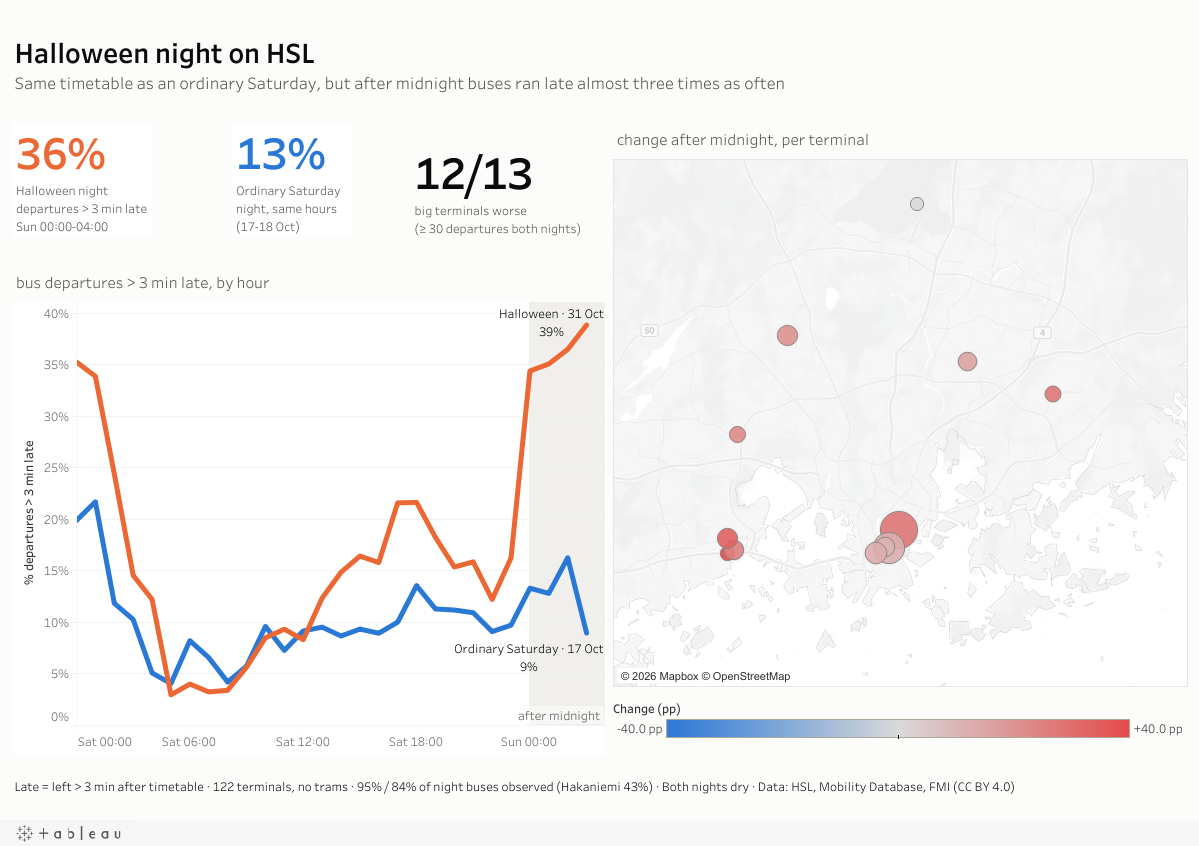

The page's visual inventory and layout, read from the dashboard file:
{"tool":"tableau","page":{"name":"Dashboard 1","canvas":[1200,820],"ordinal":0},"visuals":[{"type":"text","box":[8,8,592,120]},{"type":"worksheet","title":"BAN departures","mark":"Automatic","box":[600,8,185,120]},{"type":"worksheet","title":"BAN routes","mark":"Automatic","box":[785,8,143,120]},{"type":"worksheet","title":"BAN holiday","mark":"Automatic","box":[928,8,143,120]},{"type":"parameter","param":"[Parameters].[Parameter 1111945049993216]","box":[1071,8,121,62]},{"type":"parameter","param":"[Parameters].[Parameter 1111945050382337]","box":[1071,70,121,58]},{"type":"worksheet","title":"Map","mark":"Automatic","box":[8,128,592,646]},{"type":"worksheet","title":"Hourly","mark":"Bar","rows":["departures"],"cols":["hour"],"box":[600,128,592,611.7]},{"type":"legend","title":"Map","param":"[federated.07oydqz0tkxvlp1d425xb1o8i0ne].[none:mode_group:nk]","box":[600,739.7,592,34.3]},{"type":"text","box":[8,774,1184,38]}]}

Visuals, with their boxes on the page's 1200x820 design canvas (x1, y1, x2, y2). These are canvas units, not pixel positions in the 1199x846 screenshot, which may show the page scaled, cropped or inside an application window:
text: 8/8/600/128
"BAN departures" worksheet: 600/8/785/128
"BAN routes" worksheet: 785/8/928/128
"BAN holiday" worksheet: 928/8/1071/128
parameter: 1071/8/1192/70
parameter: 1071/70/1192/128
"Map" worksheet: 8/128/600/774
"Hourly" worksheet (Bar marks): 600/128/1192/740
"Map" legend: 600/740/1192/774
text: 8/774/1192/812
